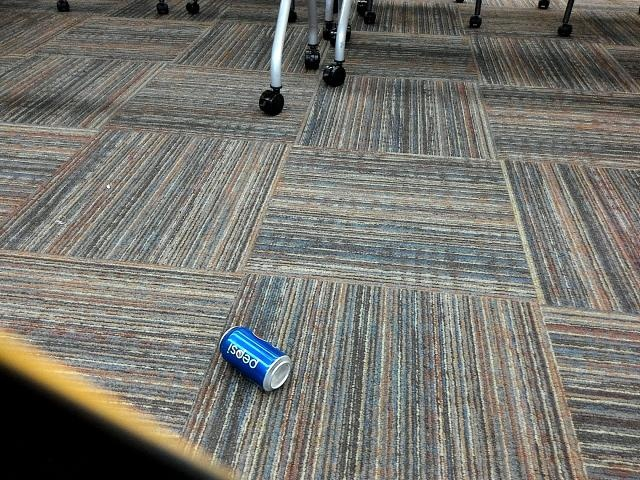can: (211, 311, 291, 391)
